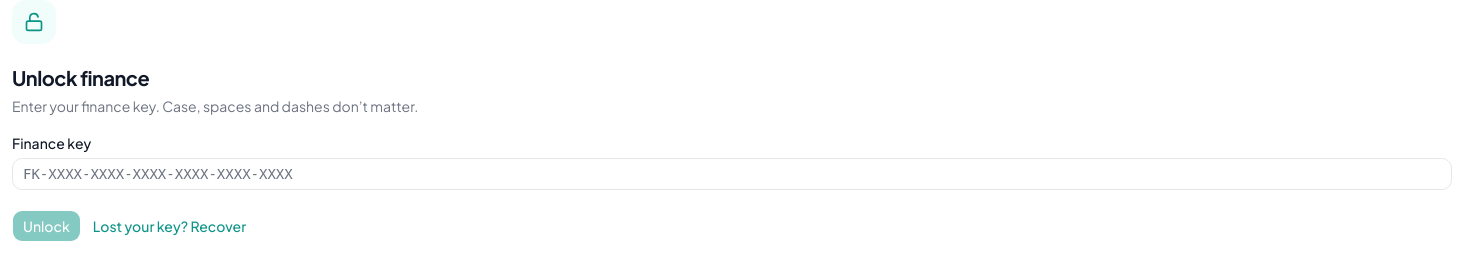
Test: finance keys never persist in the browser › unlock: sends the key once, clears the field, writes nothing to storage
Type "FK-ABCD-EFGH-JKMN-PQRS-TVWX-YZ12" into the field labelled "Finance key" at point(732, 174), box top-left (12, 158), bottom-right (1452, 190)
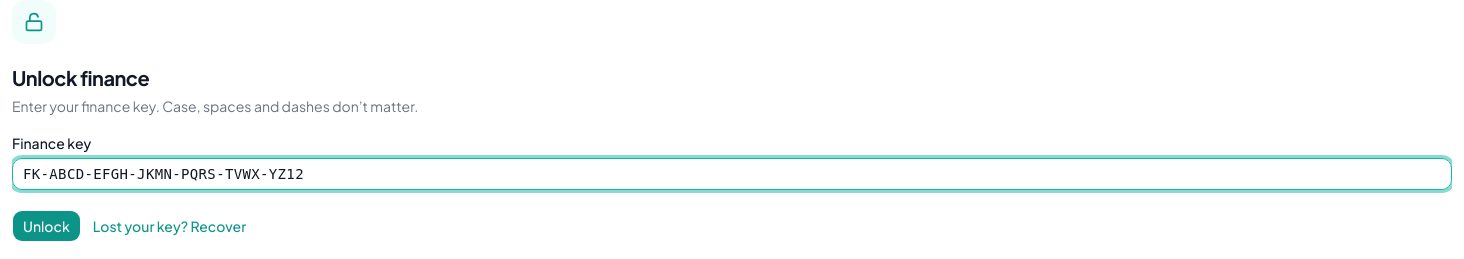
Click the button "Unlock" at point(46, 226), box top-left (12, 210), bottom-right (81, 242)
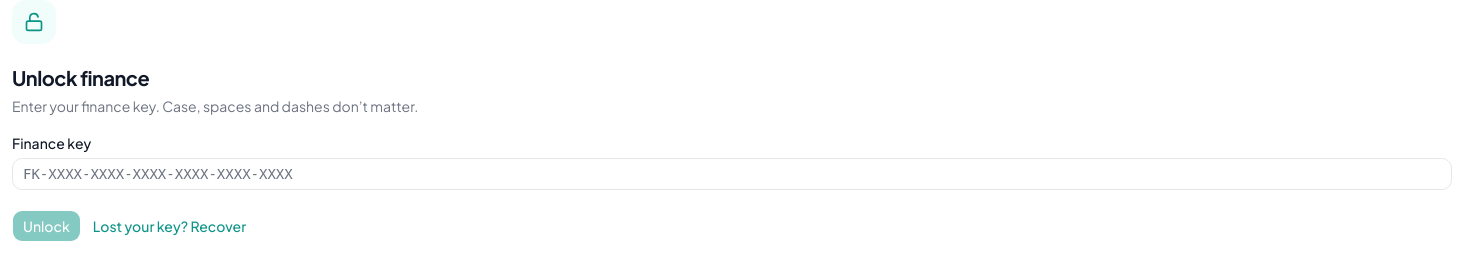
expect the field labelled "Finance key" is empty: met, box top-left (12, 158), bottom-right (1452, 190)
